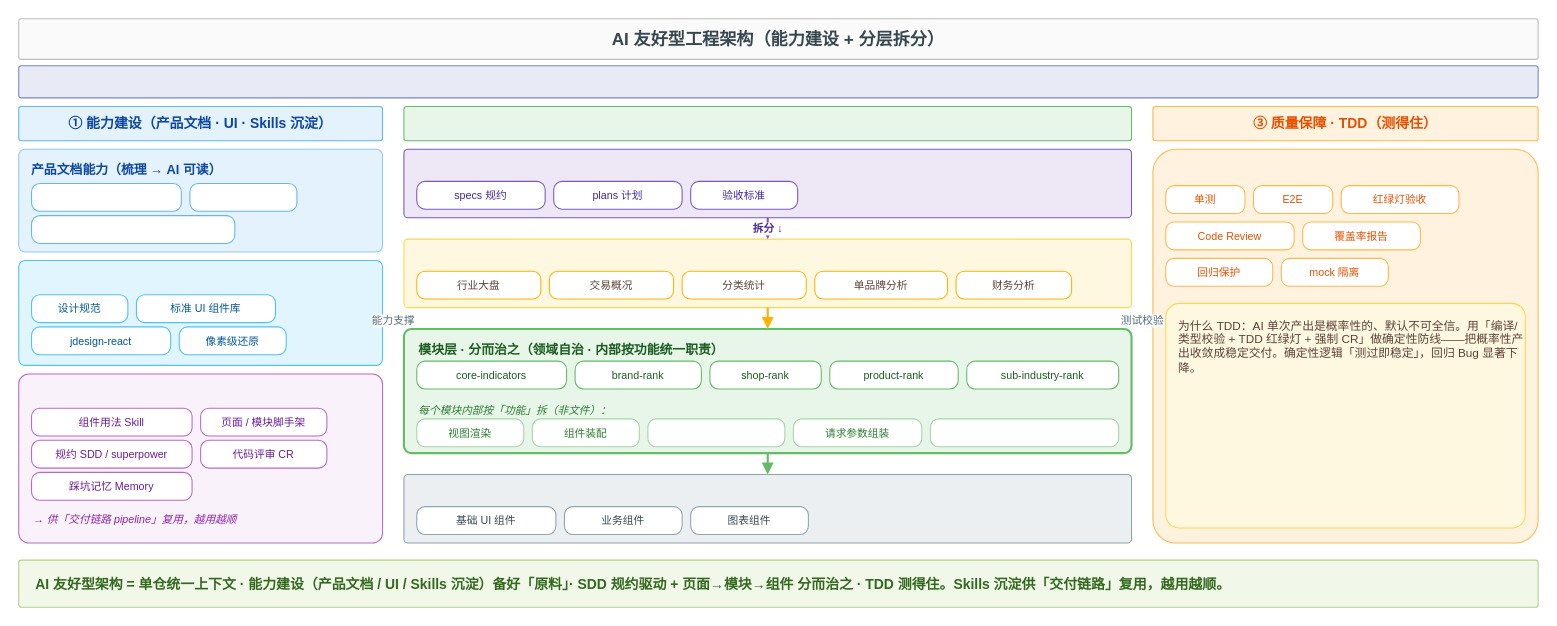
Some shapes in this 1557 by 626 pixel diagram are drawn without their labels. The shapes that lost their labels are listed below. From the top down, each one's box as (x1, y1, x2, y2) in pixels, then its label:
(18, 65, 1538, 98): 单仓 Monorepo · 统一管理：页面 / 模块 / 组件 / 能力（上下文集中，AI 一次看全）
(403, 105, 1132, 141): ② 研发交付架构（SDD 驱动 · 页面 → 模块 → 组件 拆分）
(30, 182, 181, 211): PRD / 文档 / 脑图
(189, 182, 297, 211): 规约化输入
(403, 148, 1132, 218): SDD 交付架构（规约驱动整个交付）
(30, 215, 235, 243): joyspace-to-markdown
(403, 238, 1132, 308): 页面层 · 业务场景（页面 = 头部筛选 + 模块组装，不含业务逻辑）
(18, 259, 383, 365): UI 能力建设（统一 · 可还原）
(1152, 148, 1538, 543): TDD 质量保障（测过即稳定 · 贯穿各层）
(647, 418, 785, 447): 指标 / 维度配置
(929, 418, 1119, 447): 状态管理 · 显式 Store
(18, 373, 383, 543): Skills 沉淀（能力复用 · AI 友好使能）
(403, 473, 1132, 543): 组件层 · 统一组件库（一处维护、处处复用）
